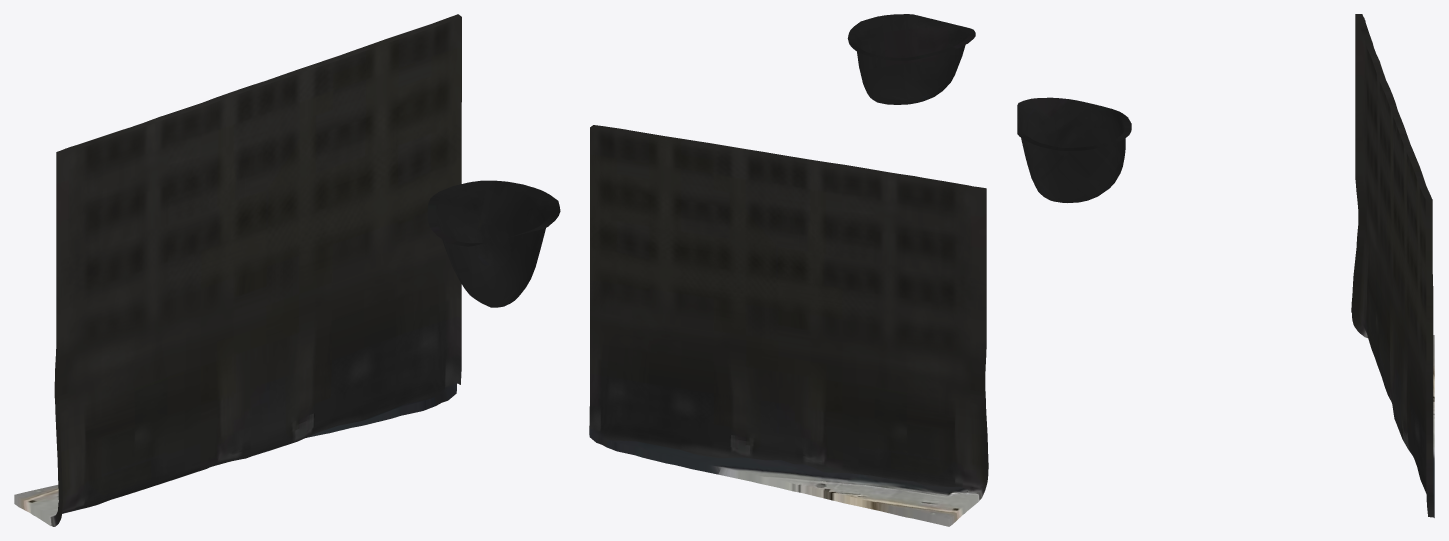
The model's file is z20-167770-405235-h0-yup-uvflip-v3-world.glb.
3 renders of one model, left to right at view 1: azimuth 30°, elevation 25°; view 2: azimuth 150°, elevation 25°; view 3: azimuth 270°, elevation 25°, orthographic. The views are drawn at different scales.
Size of the model in its own units: 30.16 by 25.36 by 28.64.
1 material, 1 textured.
